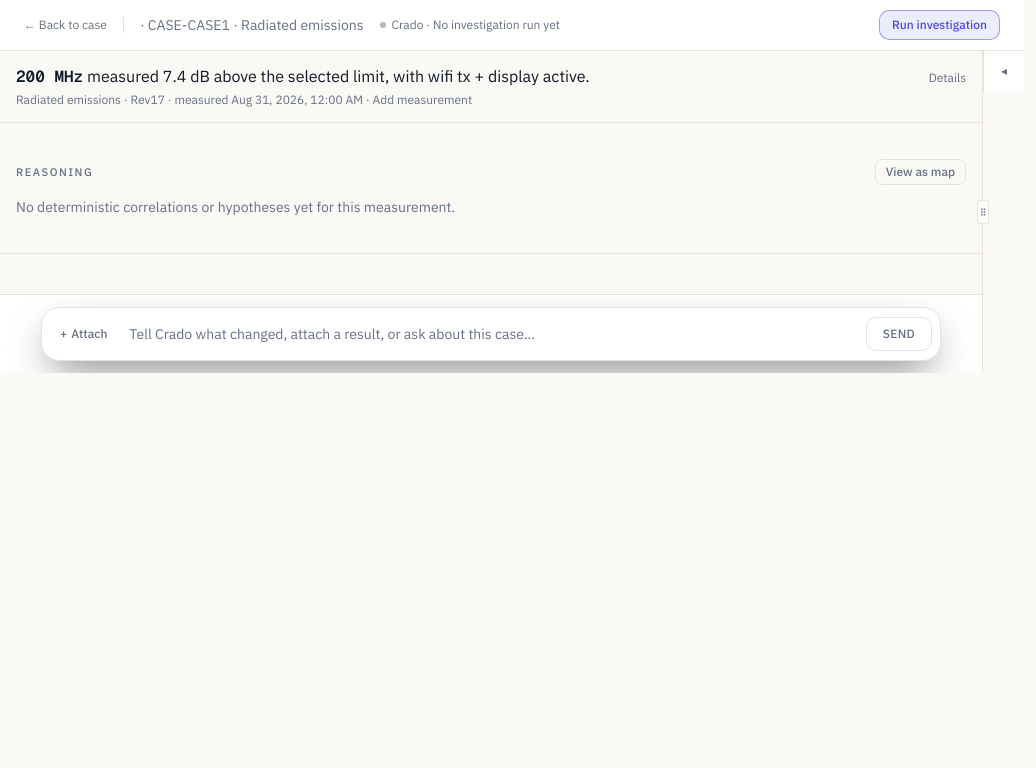
Test: InvestigationWorkspace — streaming › shows the clarification question distinctly, not as a chat message (clarification.required)
Click the button "Run investigation" at {"x": 940, "y": 25}, box [879, 10, 1000, 40]
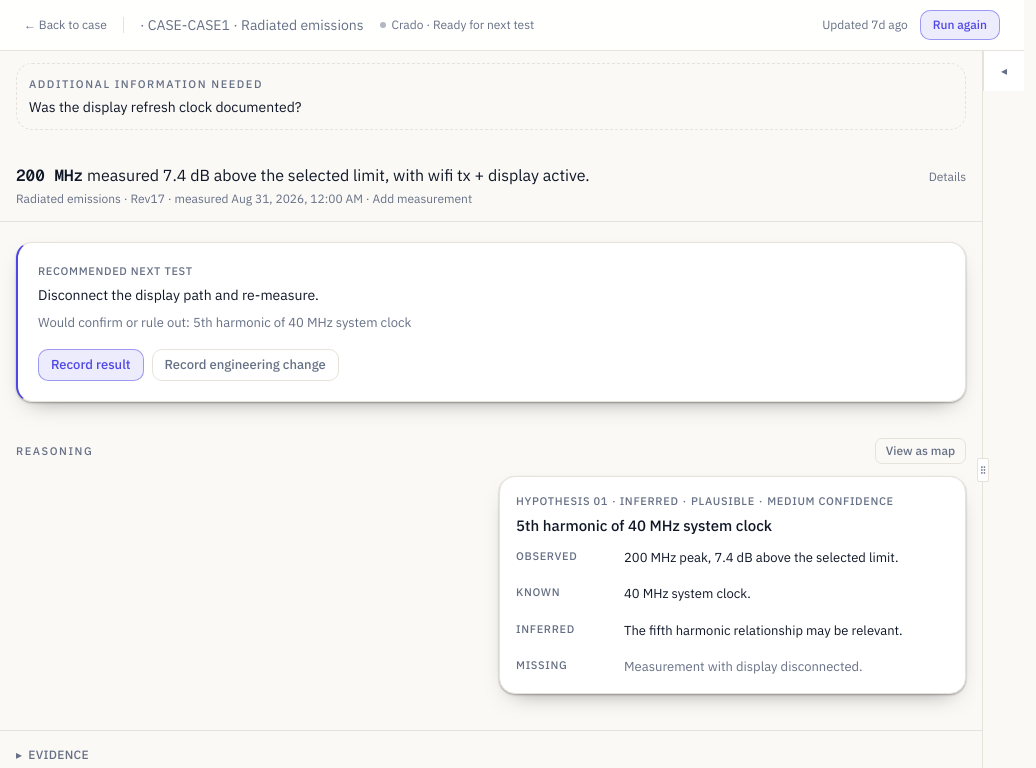
Now the text "Additional information needed" is shown, box [29, 77, 263, 91]
Now the text "Was the display refresh clock documented?" is shown, box [29, 98, 302, 116]
